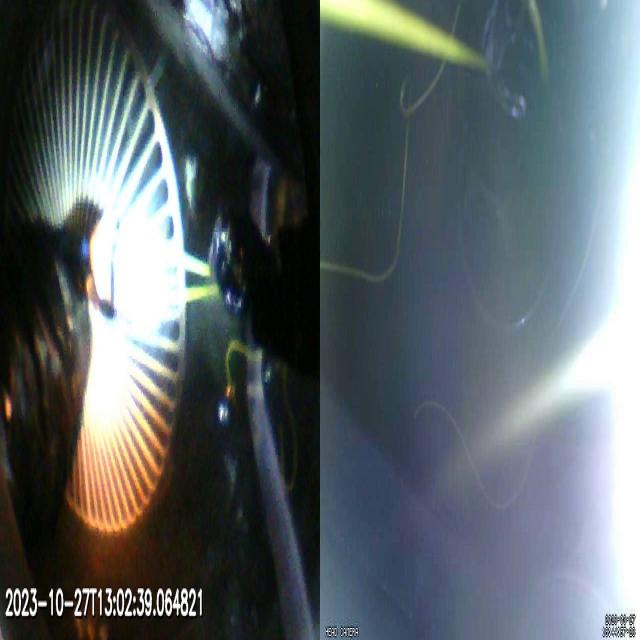head: (96, 208, 172, 328)
